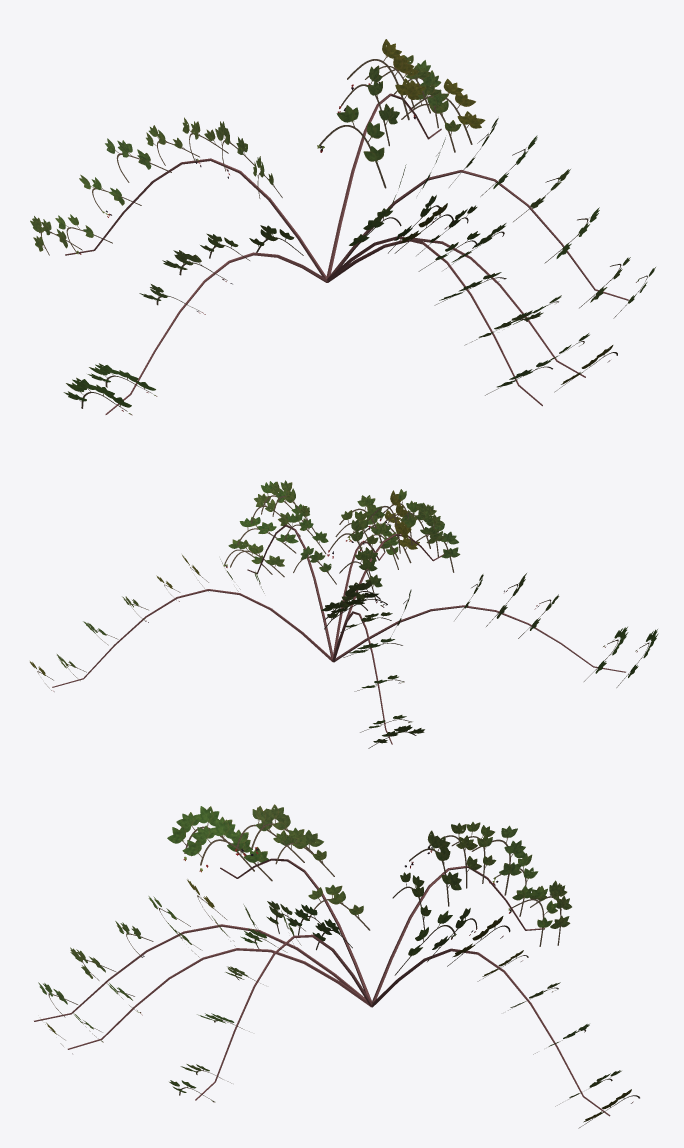
Rendered from ostruzina_1.glb.
The picture shows the model from 3 angles, top to bottom: view 1: azimuth 30°, elevation 25°; view 2: azimuth 150°, elevation 25°; view 3: azimuth 270°, elevation 25°; orthographic projection. The views are drawn at different scales.
Parts seen in each view (by area): view 1: ostruzina_1; view 2: ostruzina_1; view 3: ostruzina_1.
Boxes of the visible parts, x1,y1,x2,y2 form: ostruzina_1: (30,39,655,415); ostruzina_1: (30,480,658,748); ostruzina_1: (34,804,639,1128).
Bounding box in the file's own units: 4.67 × 1.32 × 4.31.
Materials: 2 (1 with a texture image).
